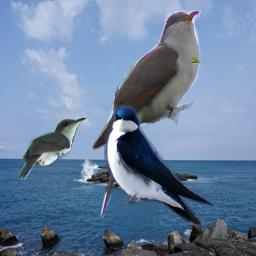Cuckoo: (91, 10, 201, 221), (17, 117, 88, 181)
Swallow: (104, 105, 213, 225)
